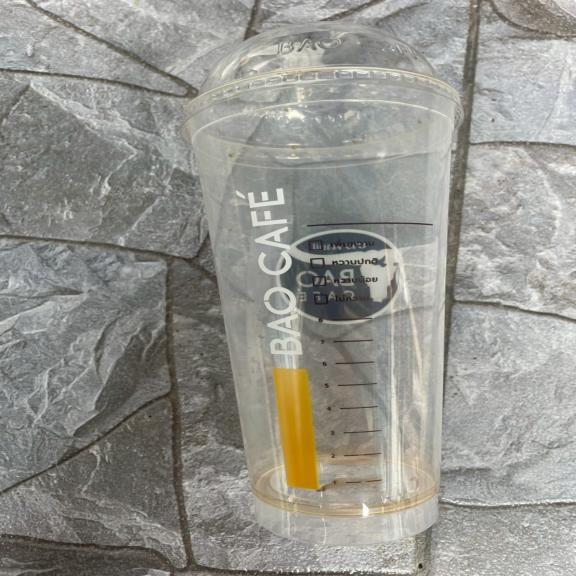Plastik: (184, 23, 461, 544)
